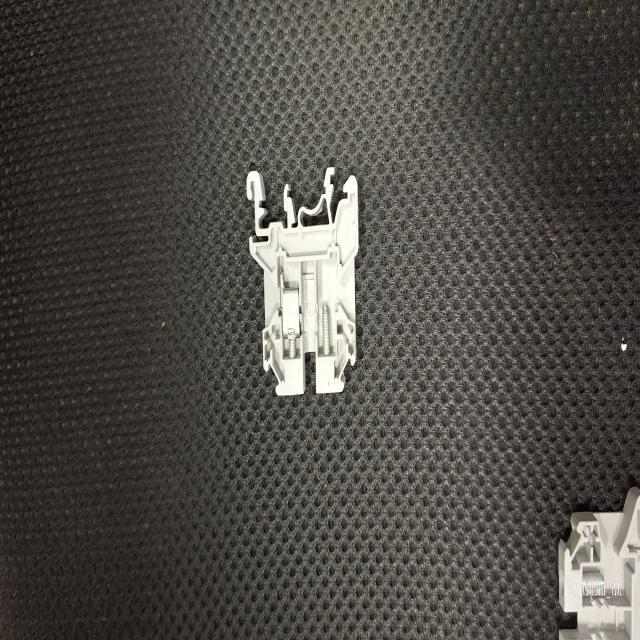Reject: (246, 163, 360, 400)
